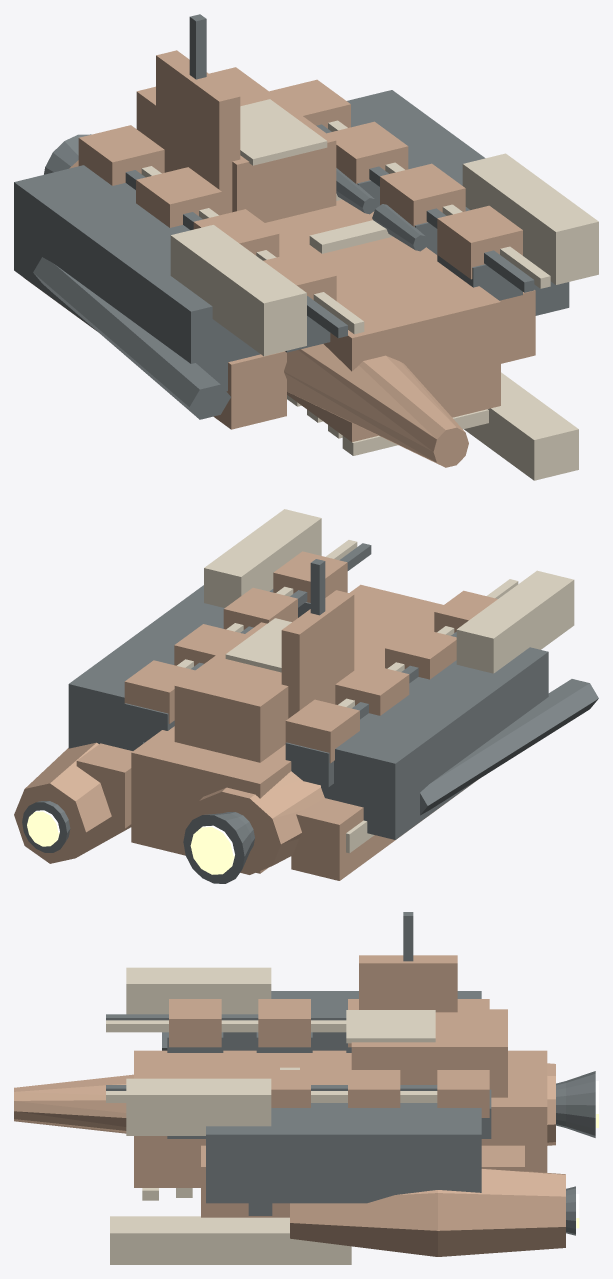
The picture shows the model from 3 angles, top to bottom: view 1: azimuth 30°, elevation 25°; view 2: azimuth 150°, elevation 25°; view 3: azimuth 270°, elevation 25°; orthographic projection. The views are drawn at different scales.
Size of the model in its own units: 13.77 by 11.02 by 20.95.
